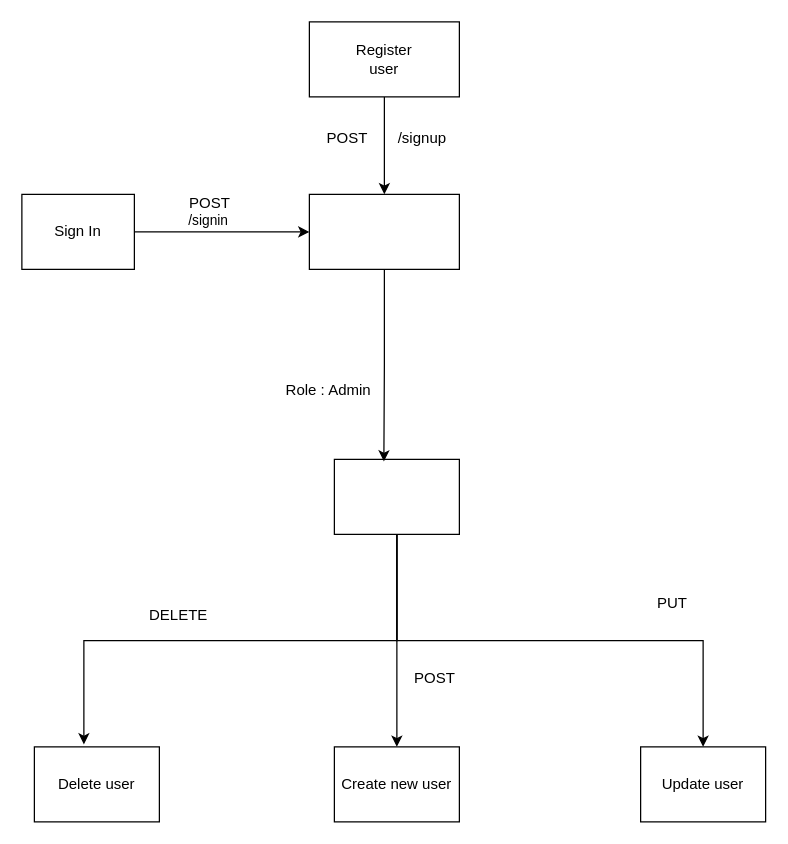
Some shapes in this 788 by 844 pixel diagram are drawn without their labels. Each missing label, with the centre of its shape:
"User" goes at (383,231).
"user management" goes at (396,496).
